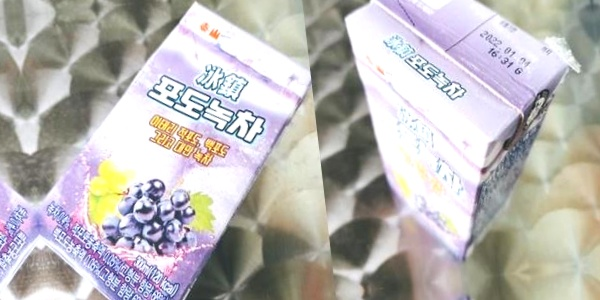鋁箔包: (16, 0, 336, 300), (338, 0, 588, 274), (0, 21, 48, 300), (375, 281, 600, 300), (0, 0, 300, 12), (51, 294, 370, 300), (0, 0, 12, 44)
